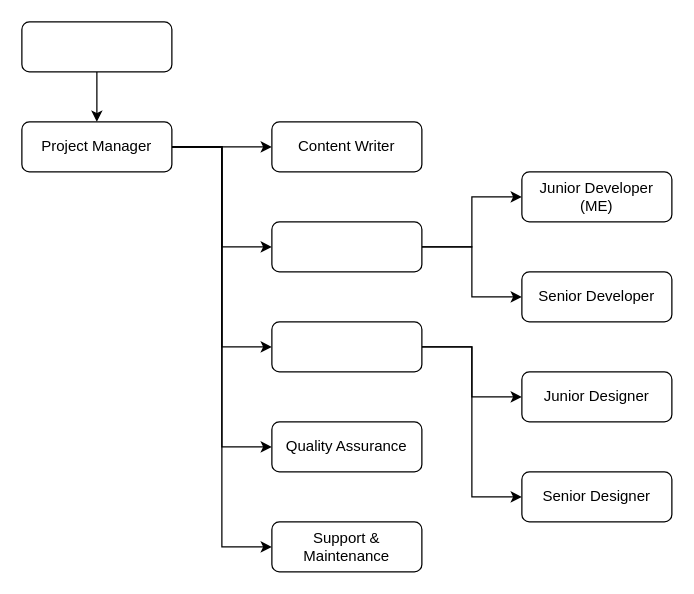
Some shapes in this 694 by 594 pixel diagram are drawn without their labels. Each missing label, with the centre of its shape:
"Backend Team" belongs at point (346, 246).
"CEO" belongs at point (96, 46).
"Frontend Team" belongs at point (346, 346).
